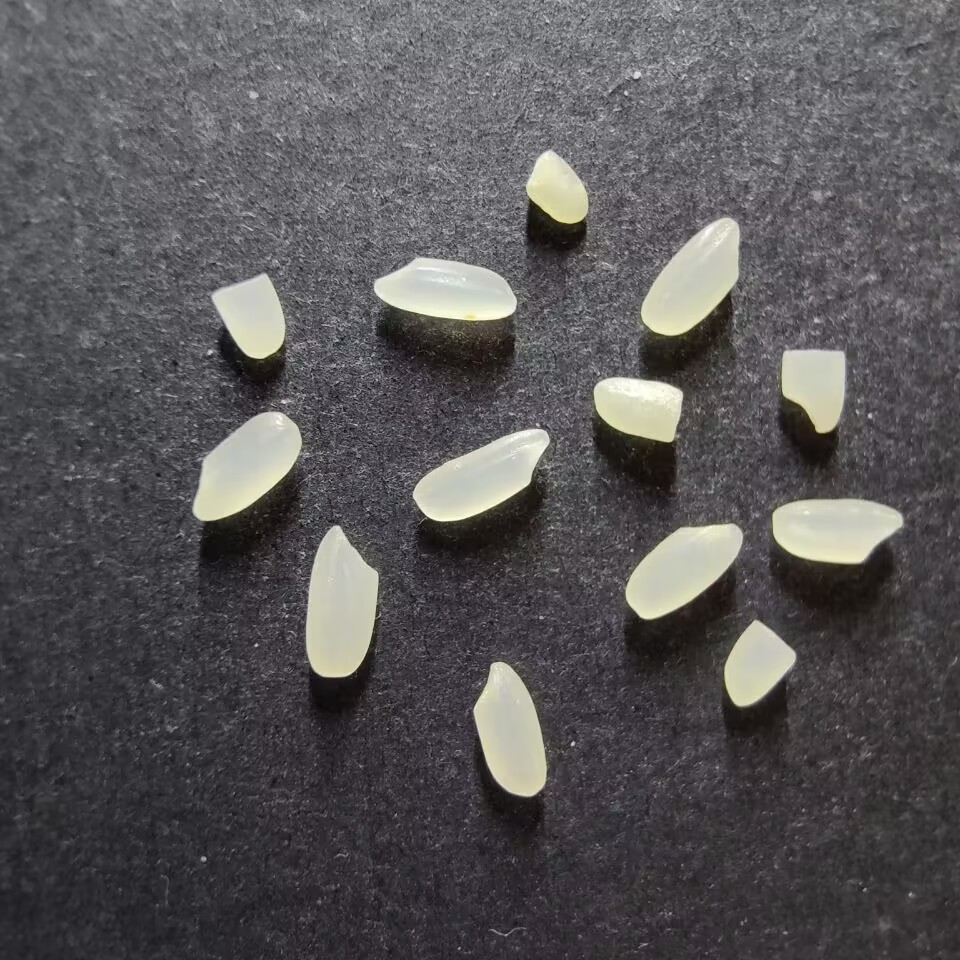broken: (723, 618, 797, 707), (209, 273, 285, 358), (592, 377, 684, 443), (779, 348, 846, 435), (525, 150, 589, 224)
rice: (413, 428, 550, 522), (192, 411, 301, 522), (640, 217, 741, 336), (623, 522, 744, 620), (304, 525, 379, 678), (472, 661, 547, 797), (372, 257, 516, 320), (771, 498, 904, 564)
